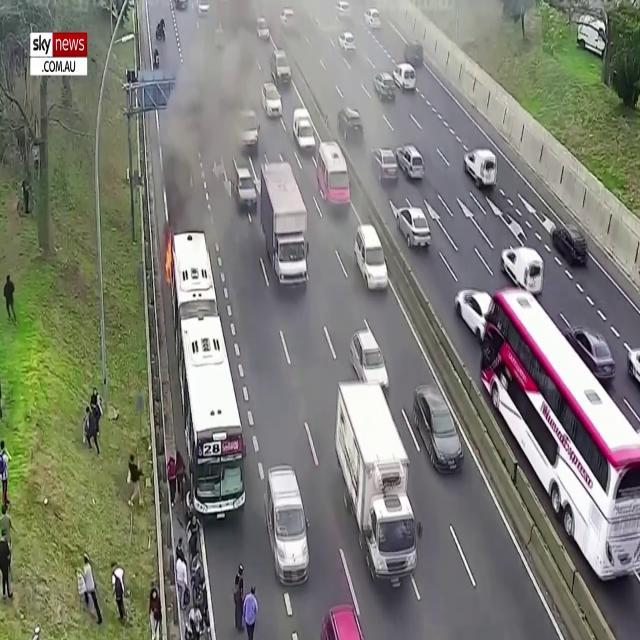Fire: (164, 232, 174, 287)
Smoke: (158, 2, 262, 240)
